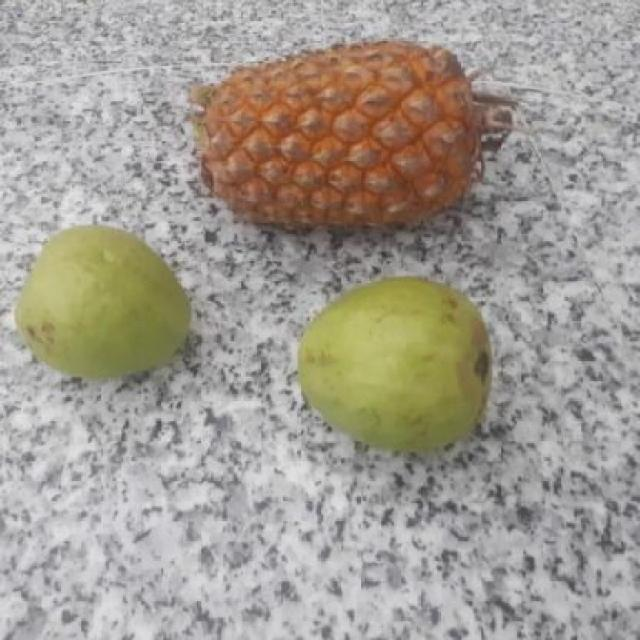guava: (299, 282, 503, 446), (16, 231, 199, 377)
pineapple: (194, 38, 495, 237)
